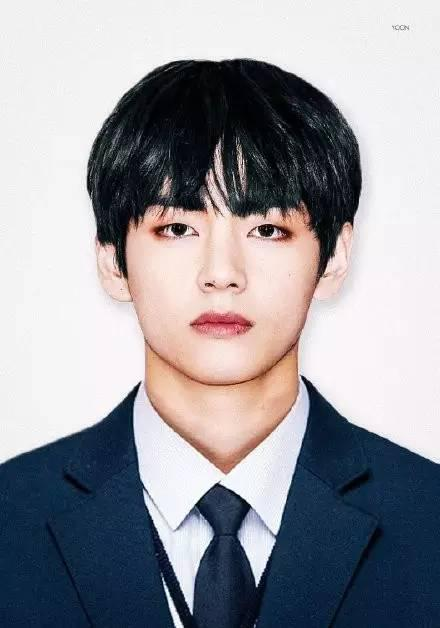unmask: (122, 178, 333, 378)
